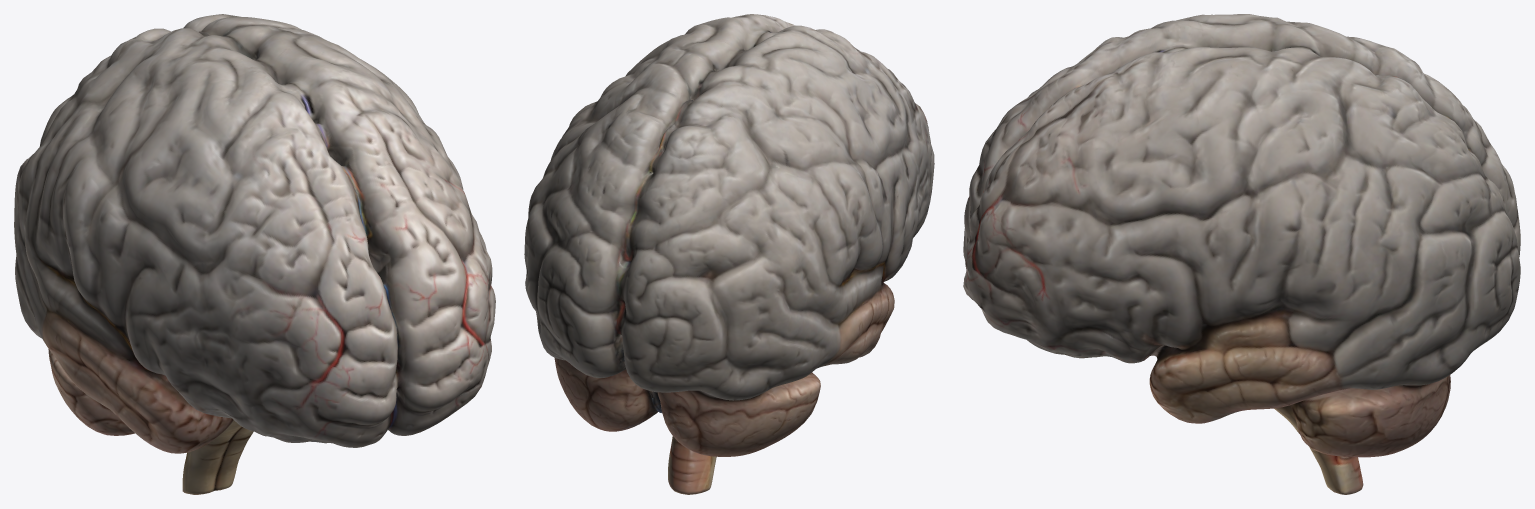
Rendered from stylizedhumanbrain.fbx.
3 renders of one model, left to right at view 1: azimuth 30°, elevation 25°; view 2: azimuth 150°, elevation 25°; view 3: azimuth 270°, elevation 25°, orthographic. The views are drawn at different scales.
Parts seen in each view (by area): view 1: Stylized Human Brain; view 2: Stylized Human Brain; view 3: Stylized Human Brain.
Boxes of the visible parts, left/top/right/bottom form: Stylized Human Brain: left=14, top=14, right=495, bottom=494; Stylized Human Brain: left=524, top=14, right=934, bottom=494; Stylized Human Brain: left=963, top=14, right=1520, bottom=494.
Bounding box in the file's own units: 6.76 × 8.77 × 9.82.
Materials: 1 (1 with a texture image).
